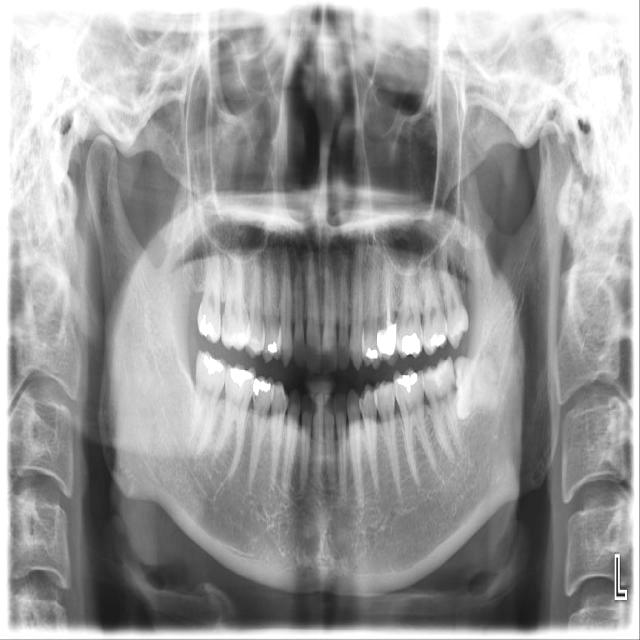Filling: (378, 319, 398, 356), (196, 311, 219, 341), (398, 329, 420, 355), (251, 376, 273, 400), (228, 365, 254, 385), (201, 356, 223, 379), (395, 371, 418, 393), (428, 331, 450, 350), (365, 341, 382, 362), (265, 338, 281, 357)
Root Canal Treatment: (387, 274, 391, 324)
impacted tooth: (455, 357, 504, 420)
